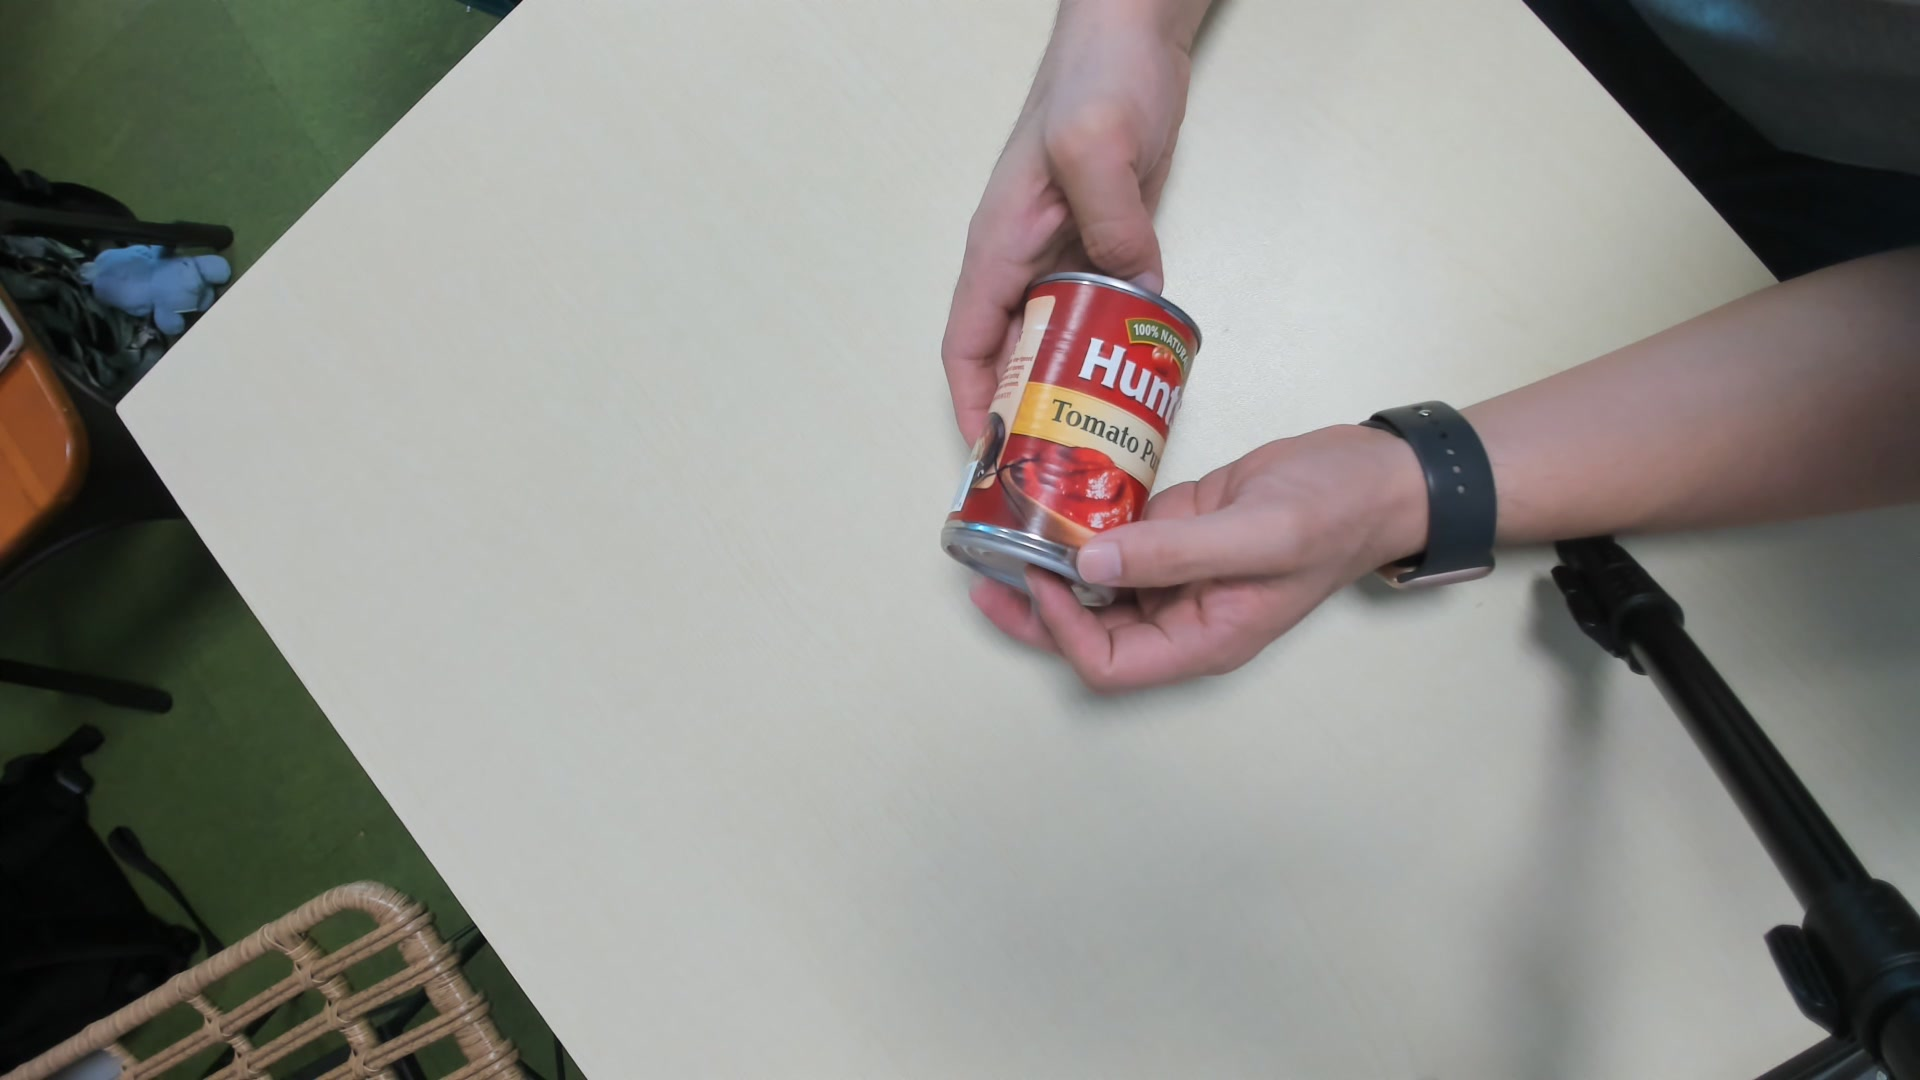OtherSauceDressing_300-399g_NonHalal_NonHealthy: (942, 268, 1203, 603)
